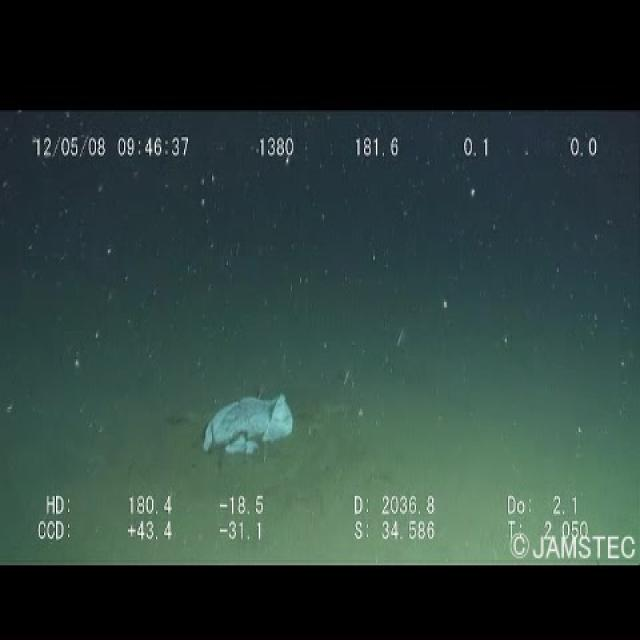plastic: (194, 389, 298, 457)
